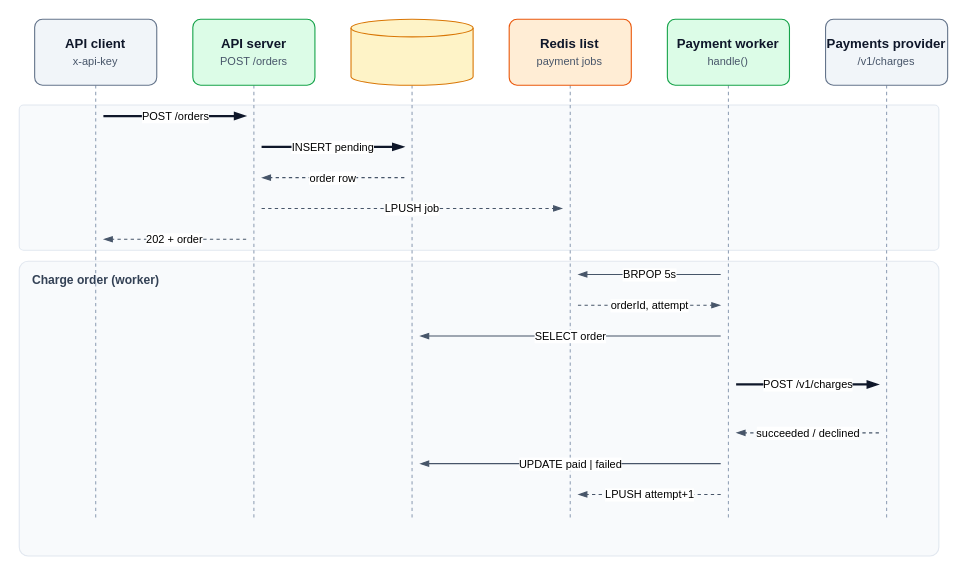
Image size: 967x575. Some labels were removed from this diagram. Each missing label, with the box of its shape:
Accept order (synchronous): (18, 104, 939, 250)
PostgreSQL orders: (350, 18, 473, 85)
